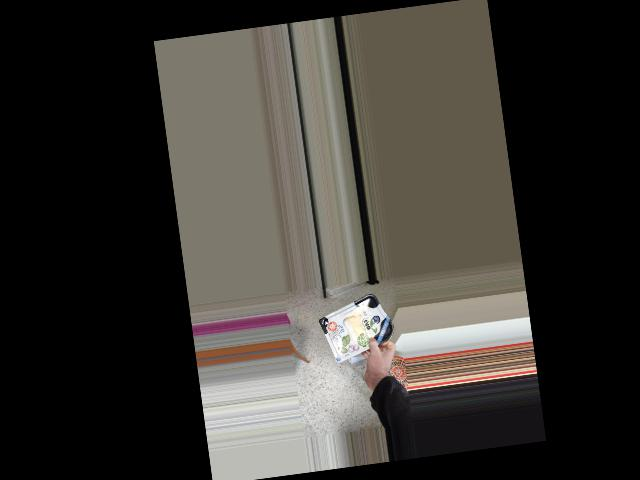cheese: (322, 298, 391, 353)
